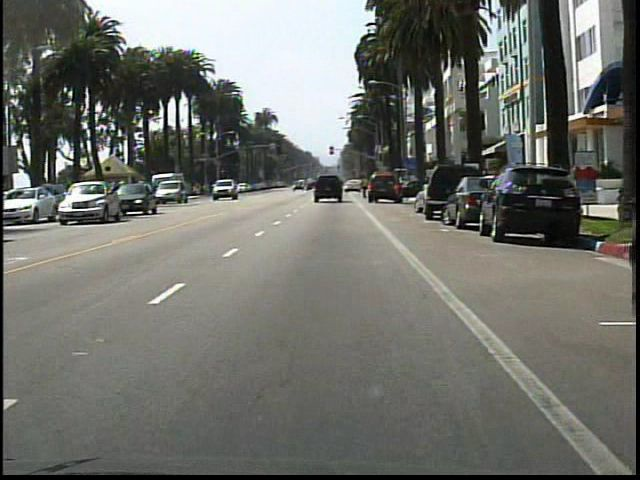person: (360, 173, 371, 202)
